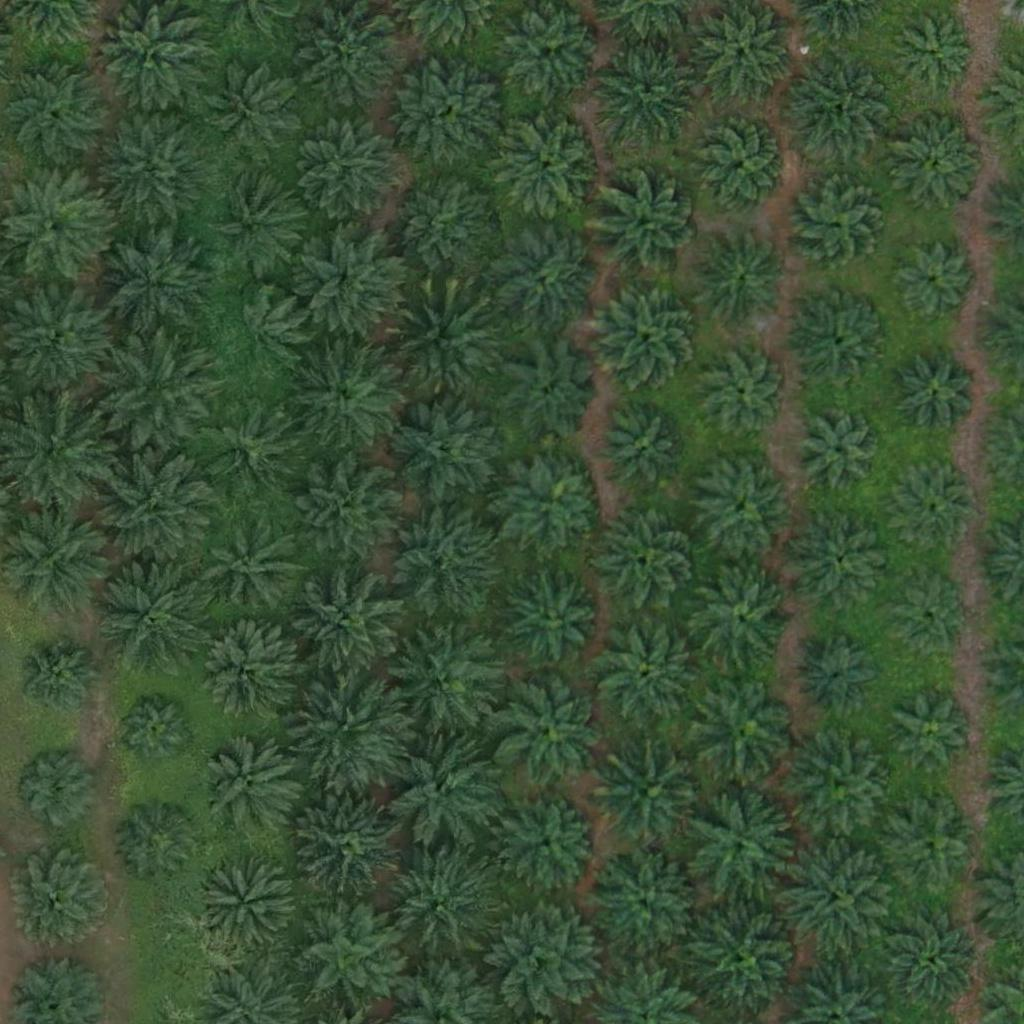Kelapa_Sawit: (595, 37, 708, 151), (95, 552, 208, 666), (95, 4, 208, 117), (293, 112, 406, 225), (589, 169, 702, 282), (591, 279, 704, 392), (390, 392, 503, 505), (386, 502, 499, 615), (295, 226, 408, 339), (286, 339, 399, 452), (292, 456, 405, 569), (294, 674, 407, 787), (295, 791, 408, 904), (391, 622, 504, 735), (388, 736, 501, 849), (382, 847, 495, 960), (490, 902, 603, 1015), (683, 789, 796, 902), (781, 841, 894, 954), (782, 53, 894, 167), (292, 567, 404, 681), (99, 333, 211, 447), (101, 450, 213, 564), (98, 112, 210, 225), (397, 56, 509, 169), (388, 172, 500, 285), (387, 287, 499, 400), (97, 227, 209, 340), (290, 900, 402, 1013), (495, 676, 607, 789), (590, 615, 702, 728), (597, 742, 709, 855), (590, 848, 702, 961), (690, 907, 802, 1020), (302, 7, 402, 108), (793, 509, 893, 610), (691, 228, 791, 329), (692, 456, 792, 557), (692, 573, 792, 674), (596, 510, 696, 611), (495, 115, 595, 216), (492, 227, 592, 328), (501, 343, 601, 444), (502, 453, 602, 554), (499, 567, 599, 668), (207, 173, 307, 274), (195, 624, 295, 725), (201, 736, 301, 837), (196, 854, 296, 955), (501, 793, 601, 894), (694, 5, 794, 105), (888, 112, 988, 212), (787, 174, 887, 274), (791, 290, 891, 390), (691, 115, 791, 215), (199, 400, 299, 500), (203, 519, 303, 619), (13, 849, 113, 949), (693, 677, 793, 777), (791, 737, 891, 837), (879, 795, 979, 895), (891, 241, 979, 329), (600, 405, 688, 493), (216, 290, 304, 378), (211, 66, 298, 154), (798, 404, 885, 492), (700, 348, 787, 436), (15, 636, 102, 724), (12, 745, 99, 833), (114, 800, 201, 888), (891, 915, 978, 1003), (898, 15, 973, 91), (900, 358, 975, 434), (898, 469, 973, 545), (801, 639, 876, 715), (895, 692, 970, 768), (890, 584, 965, 659), (117, 692, 192, 767)
